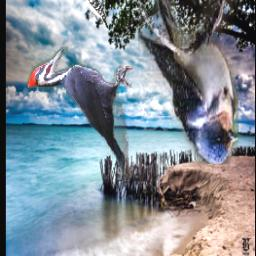Swallow: (139, 0, 239, 165)
Woodpecker: (27, 47, 132, 181), (83, 0, 108, 28)
